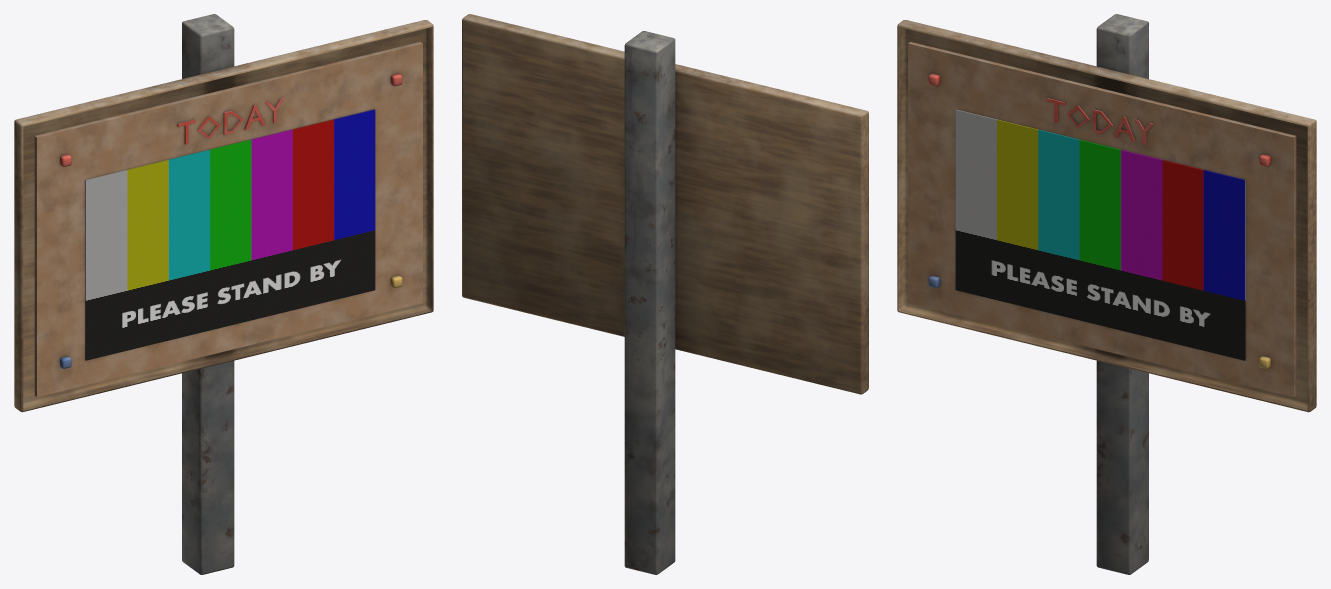
The model's file is mission_board.fbx.
3 renders of one model, left to right at view 1: azimuth 30°, elevation 25°; view 2: azimuth 150°, elevation 25°; view 3: azimuth 330°, elevation 25°, orthographic. The views are drawn at different scales.
Visible parts, largest first — view 1: Body, Screen; view 2: Body; view 3: Body, Screen.
Part boxes in pixels (x1,y1,x2,y2): Body: (14,14,433,574); Screen: (85,109,375,360); Body: (462,14,868,574); Body: (897,14,1316,574); Screen: (955,109,1245,360).
Bounding box in the file's own units: 6 × 7.5 × 0.88.
Materials: 2 (2 with a texture image).
